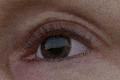eye: (40, 35, 71, 59)
